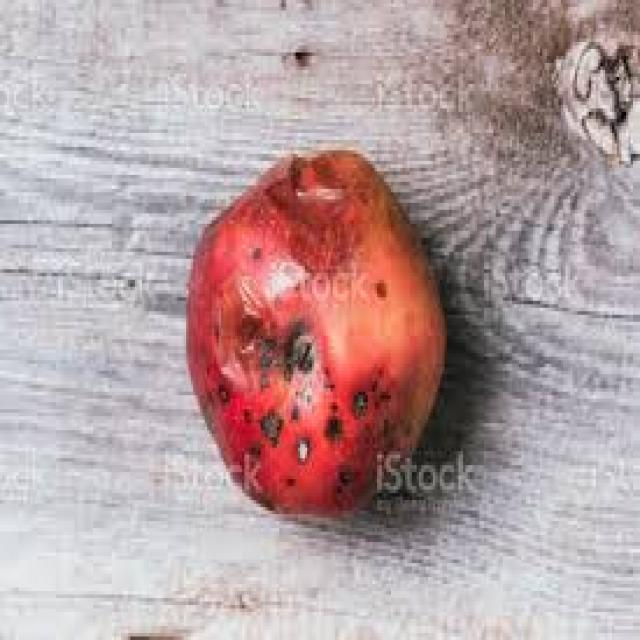organic waste: (184, 143, 440, 518)
